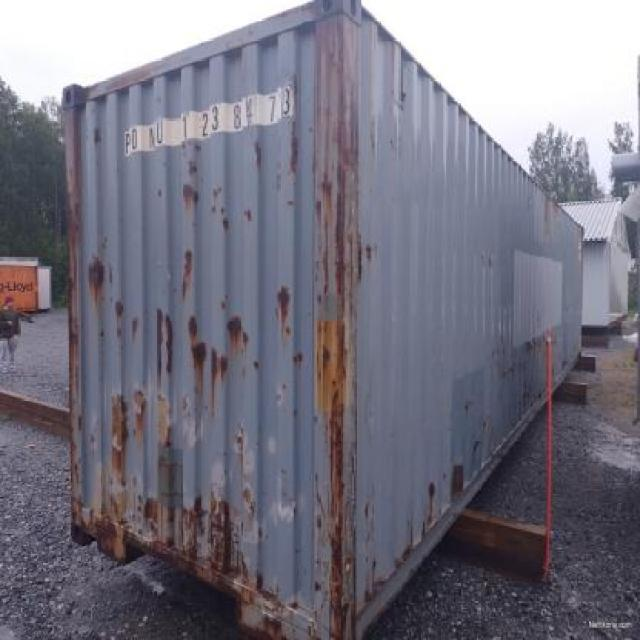Rust: (71, 498, 272, 640), (315, 12, 360, 177), (66, 166, 79, 488), (329, 512, 348, 640), (329, 389, 345, 522), (336, 160, 347, 314), (180, 496, 208, 545), (111, 394, 129, 449), (211, 348, 228, 385), (88, 256, 105, 290), (165, 314, 174, 375), (277, 285, 291, 320), (157, 308, 163, 389), (348, 234, 354, 312), (143, 497, 159, 525), (183, 249, 192, 297), (191, 342, 208, 365), (291, 122, 298, 173), (226, 315, 242, 337), (322, 246, 328, 294), (263, 615, 280, 631), (339, 323, 345, 366), (322, 173, 333, 196), (258, 589, 277, 600), (188, 316, 197, 339), (167, 506, 176, 528), (323, 345, 331, 368), (188, 159, 197, 179), (133, 316, 139, 345), (254, 140, 260, 168), (115, 298, 123, 317), (255, 573, 263, 590), (359, 248, 362, 285), (183, 185, 192, 196), (316, 198, 322, 214), (94, 128, 100, 143), (366, 245, 371, 262), (223, 217, 228, 232), (193, 191, 199, 203), (243, 332, 249, 343), (149, 522, 154, 531), (214, 189, 218, 200), (220, 208, 225, 215), (213, 205, 216, 214)
